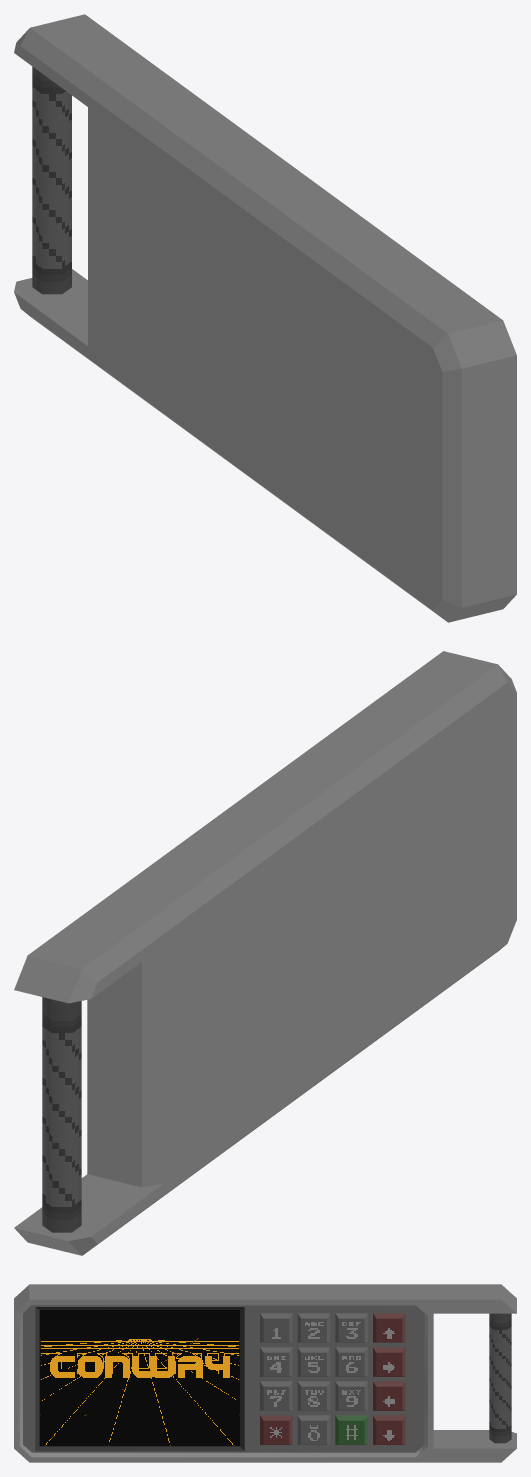
The model's file is Handheld Terminal.glb.
3 renders of one model, top to bottom at view 1: azimuth 30°, elevation 25°; view 2: azimuth 150°, elevation 25°; view 3: azimuth 270°, elevation 25°, orthographic. The views are drawn at different scales.
Parts seen in each view (by area): view 1: Cube; view 2: Cube; view 3: Cube.
Boxes of the visible parts, x1=… form: Cube: x1=14, y1=14, x2=516, y2=622; Cube: x1=14, y1=651, x2=516, y2=1255; Cube: x1=14, y1=1284, x2=516, y2=1462.
Size of the model in its own units: 0.7137 by 2.87 by 8.03.
2 materials, 2 textured.
